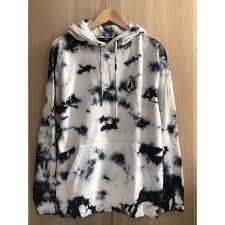sweater: (36, 27, 182, 219)
